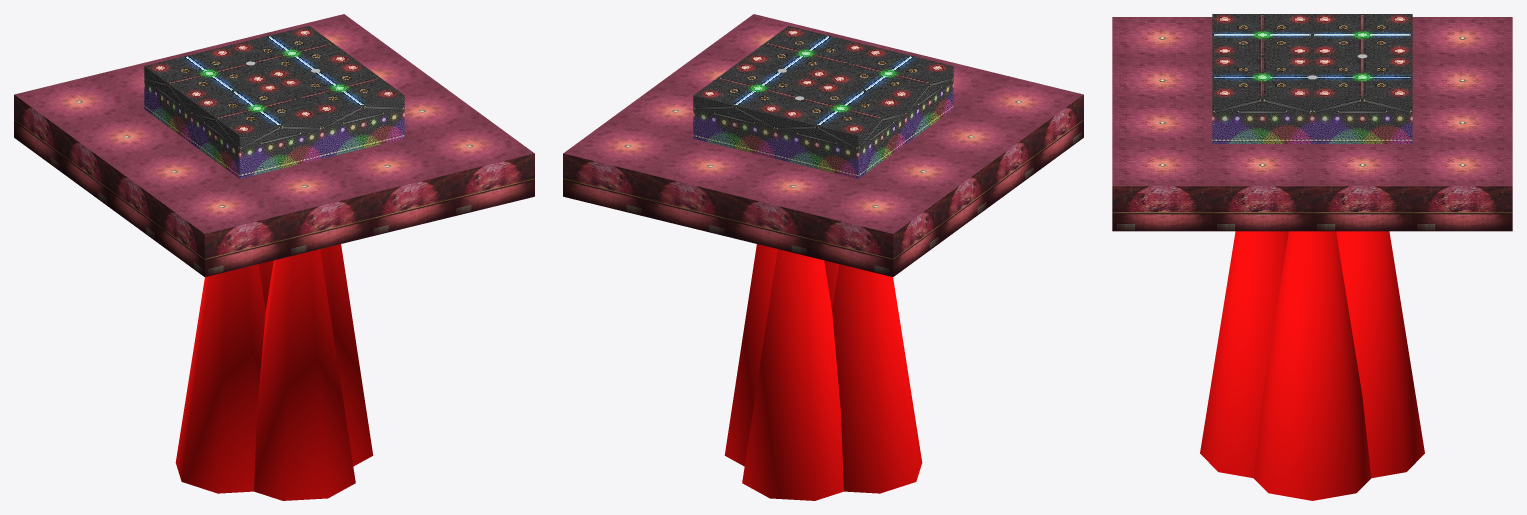
Rendered from ENVI_DISCO.obj.
3 renders of one model, left to right at view 1: azimuth 30°, elevation 25°; view 2: azimuth 150°, elevation 25°; view 3: azimuth 270°, elevation 25°, orthographic. The views are drawn at different scales.
Visible parts, largest first — view 1: DISCODiscoRoom, DISCOlight4, DISCOlight1, DISCOlight3; view 2: DISCODiscoRoom, DISCOlight2, DISCOlight1, DISCOlight3; view 3: DISCODiscoRoom, DISCOlight3, DISCOlight2, DISCOlight4.
Part boxes in pixels (<box>): DISCODiscoRoom: <box>14,14,534,276</box>; DISCOlight4: <box>254,249,355,500</box>; DISCOlight1: <box>175,264,265,493</box>; DISCOlight3: <box>311,69,373,466</box>; DISCODiscoRoom: <box>563,14,1083,276</box>; DISCOlight2: <box>742,96,843,500</box>; DISCOlight1: <box>832,264,922,493</box>; DISCOlight3: <box>724,69,786,466</box>; DISCODiscoRoom: <box>1112,14,1512,231</box>; DISCOlight3: <box>1253,75,1371,500</box>; DISCOlight2: <box>1336,54,1424,478</box>; DISCOlight4: <box>1200,231,1288,478</box>.
Size of what is drawn, in the model's own units: 1600 by 1752 by 1600.
12 materials, 9 textured.
